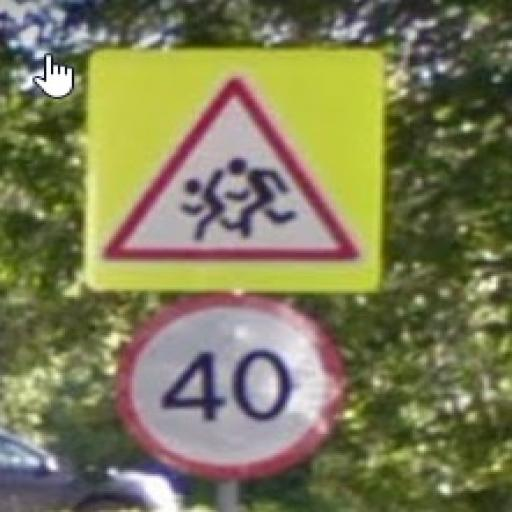traffic_sign: (101, 79, 360, 262), (117, 294, 346, 479)
